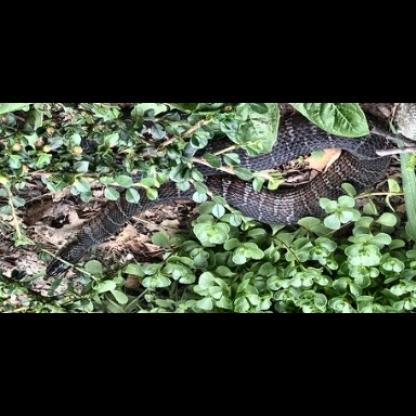Snake: (5, 106, 416, 251)
